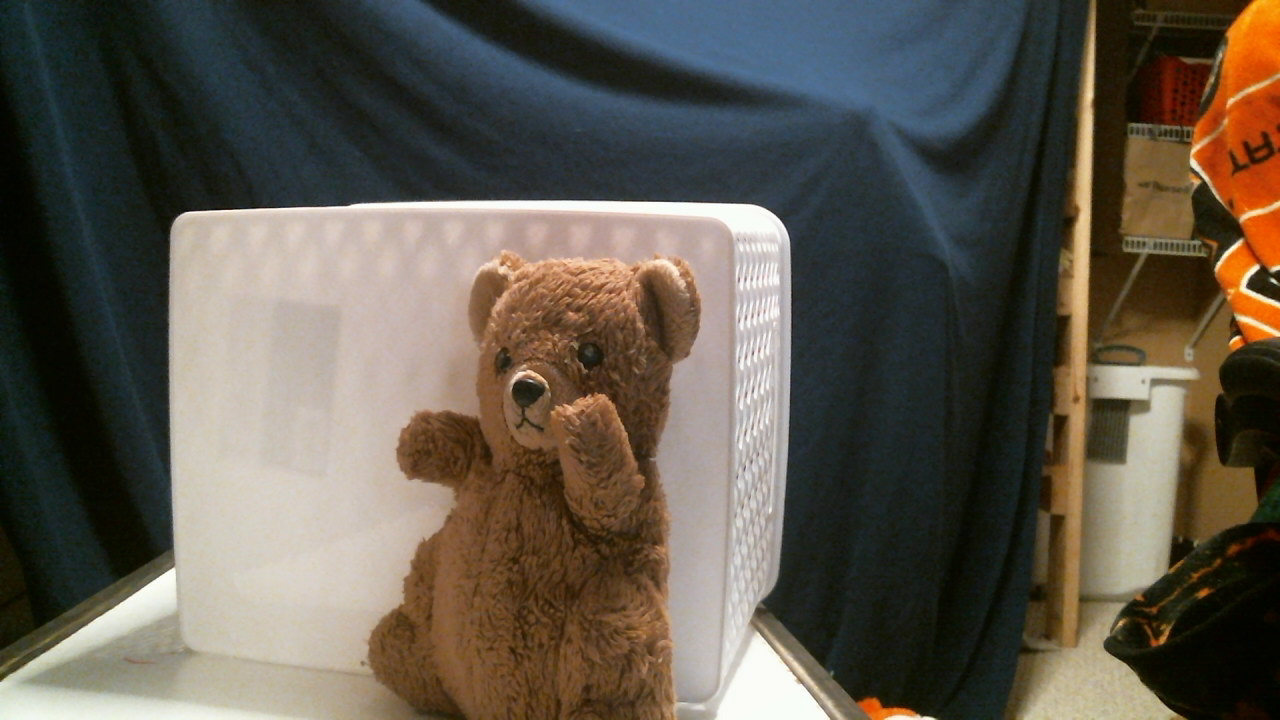Little_Mister_Bear: (495, 340, 620, 449)
